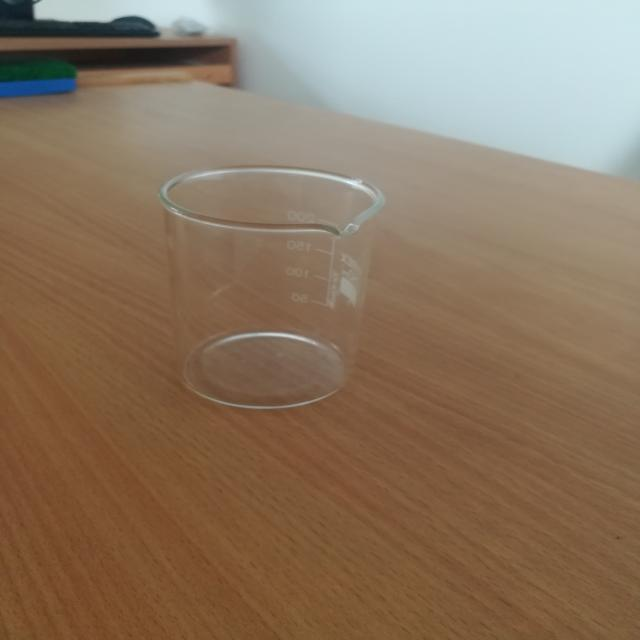Beaker: (110, 110, 435, 435)
